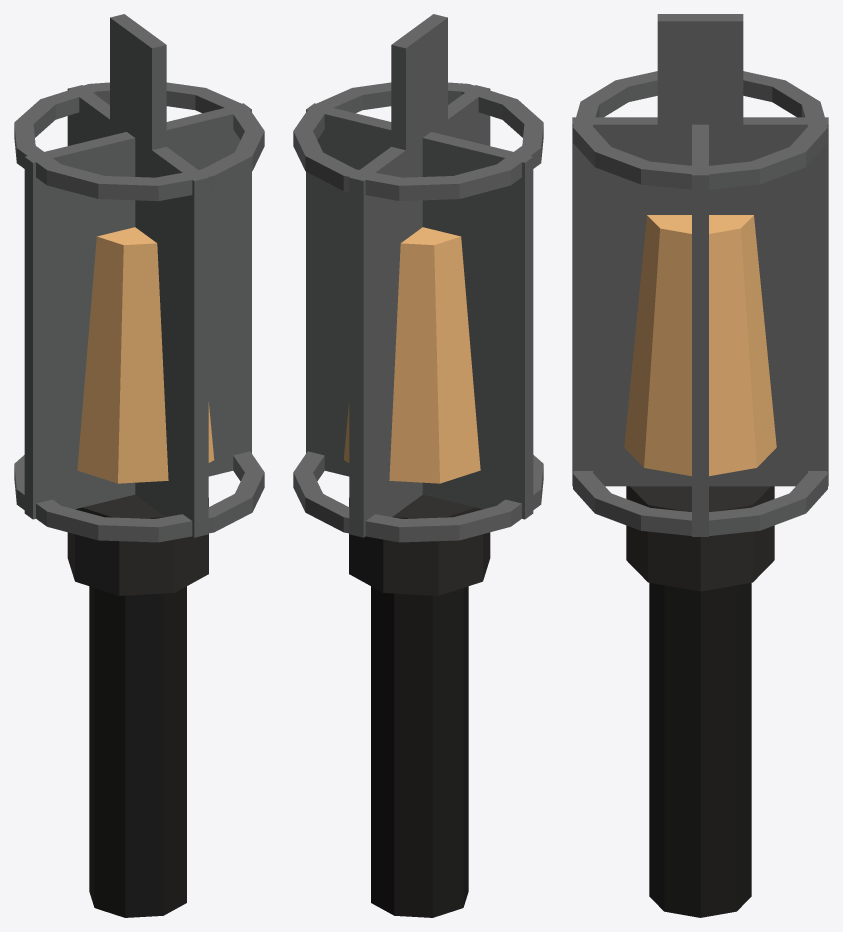
The model's file is work-lamp-cage.glb.
3 renders of one model, left to right at view 1: azimuth 30°, elevation 25°; view 2: azimuth 150°, elevation 25°; view 3: azimuth 270°, elevation 25°, orthographic.
Visible parts, largest first — view 1: metal, rubber, emissive-warm, plastic-dark; view 2: metal, rubber, emissive-warm, plastic-dark; view 3: metal, rubber, emissive-warm, plastic-dark.
Part boxes in pixels (bbox=[...]): metal: bbox=[14, 14, 264, 542]; rubber: bbox=[89, 586, 186, 917]; emissive-warm: bbox=[77, 227, 214, 483]; plastic-dark: bbox=[67, 494, 208, 595]; metal: bbox=[293, 14, 543, 542]; rubber: bbox=[371, 586, 468, 917]; emissive-warm: bbox=[343, 227, 480, 483]; plastic-dark: bbox=[349, 494, 490, 595]; metal: bbox=[572, 14, 828, 536]; rubber: bbox=[649, 582, 751, 917]; emissive-warm: bbox=[624, 215, 776, 476]; plastic-dark: bbox=[626, 486, 774, 591].
Size of the model in its own units: 0.09 by 0.34 by 0.09.
